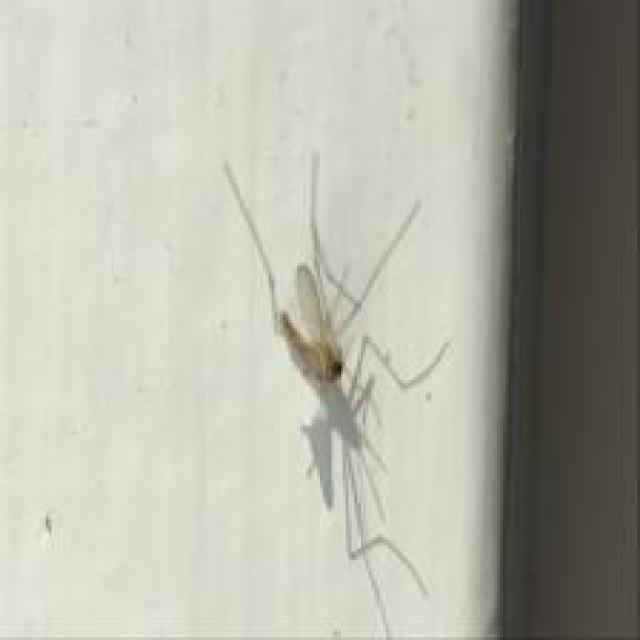Culex: (220, 151, 454, 640)
